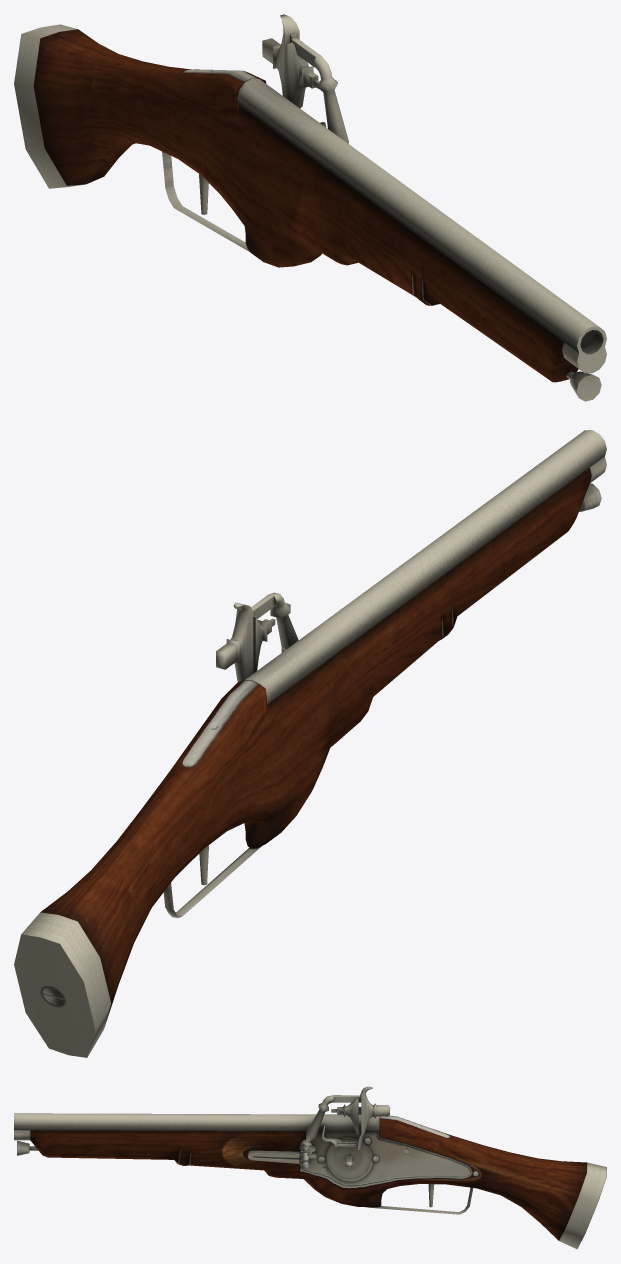
Rendered from Pistol.dae.
3 renders of one model, top to bottom at view 1: azimuth 30°, elevation 25°; view 2: azimuth 150°, elevation 25°; view 3: azimuth 270°, elevation 25°, orthographic. The views are drawn at different scales.
Parts seen in each view (by area): view 1: DrawCall_0575; view 2: DrawCall_0575; view 3: DrawCall_0575.
Boxes of the visible parts, box(x1,y1,x2,y2) form: DrawCall_0575: box(14, 14, 606, 401); DrawCall_0575: box(14, 430, 606, 1057); DrawCall_0575: box(14, 1086, 606, 1249).
Bounding box in the file's own units: 0.3253 × 1.23 × 4.04.
Materials: 1 (1 with a texture image).
